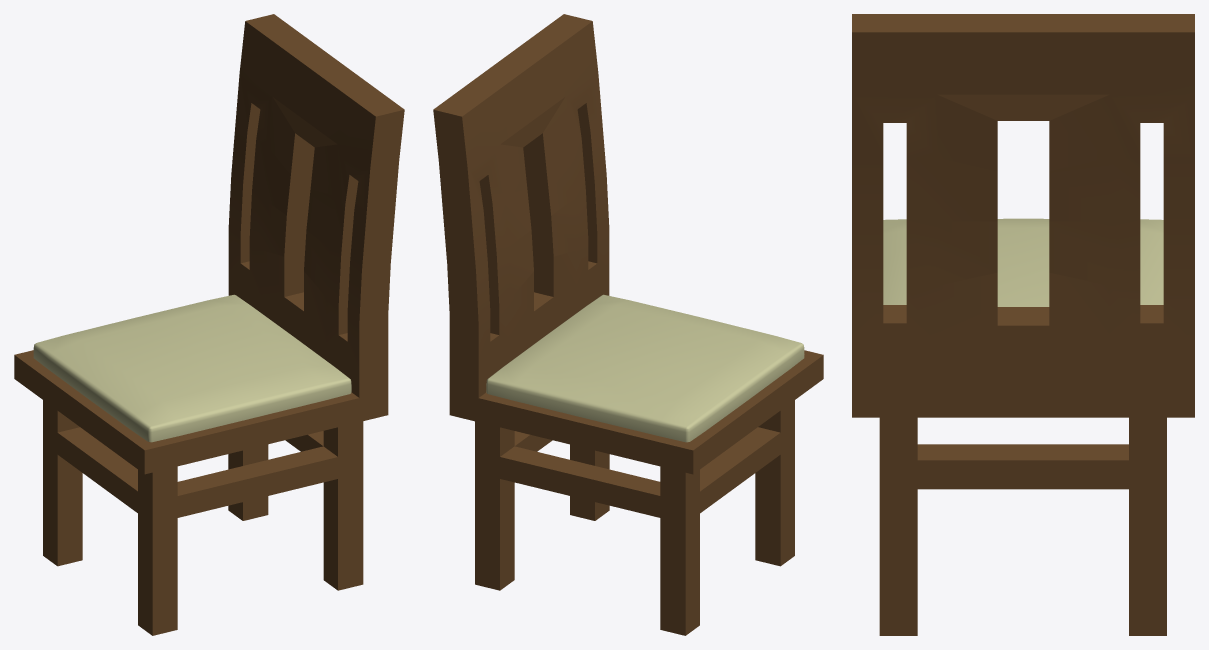
File: wooden_chair.fbx
3 renders of one model, left to right at view 1: azimuth 30°, elevation 25°; view 2: azimuth 150°, elevation 25°; view 3: azimuth 270°, elevation 25°, orthographic. The views are drawn at different scales.
Parts seen in each view (by area): view 1: pCube9; view 2: pCube9; view 3: pCube9.
Part boxes in pixels (x1,y1,x2,y2): pCube9: [14, 14, 404, 635]; pCube9: [433, 14, 823, 635]; pCube9: [852, 14, 1194, 635].
Bounding box in the file's own units: 6.31 × 11.03 × 5.5.
